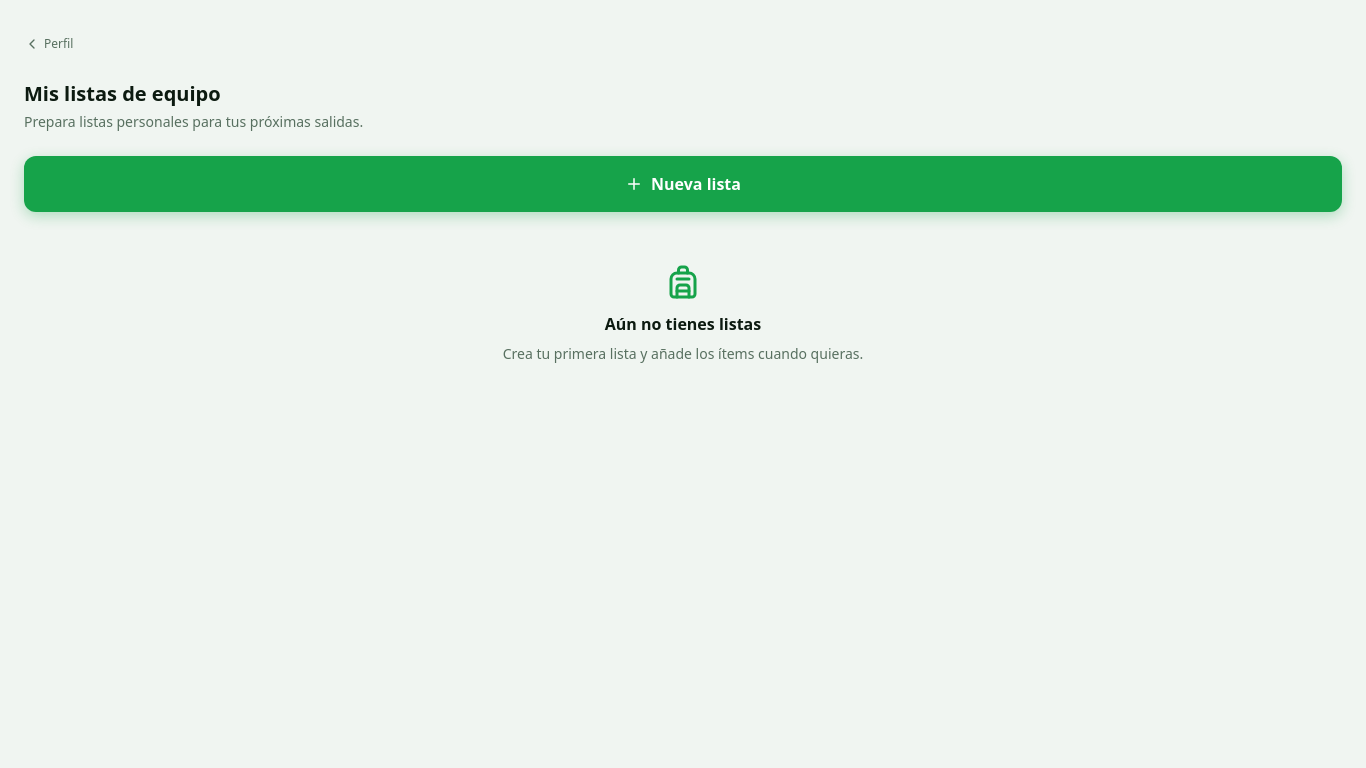
Test: Pantalla HU-30: React sin navegador › muestra el estado vacío y permite crear una lista sin ítems
Click the button "Nueva lista" at (683, 184), box left=24, top=156, right=1342, bottom=212
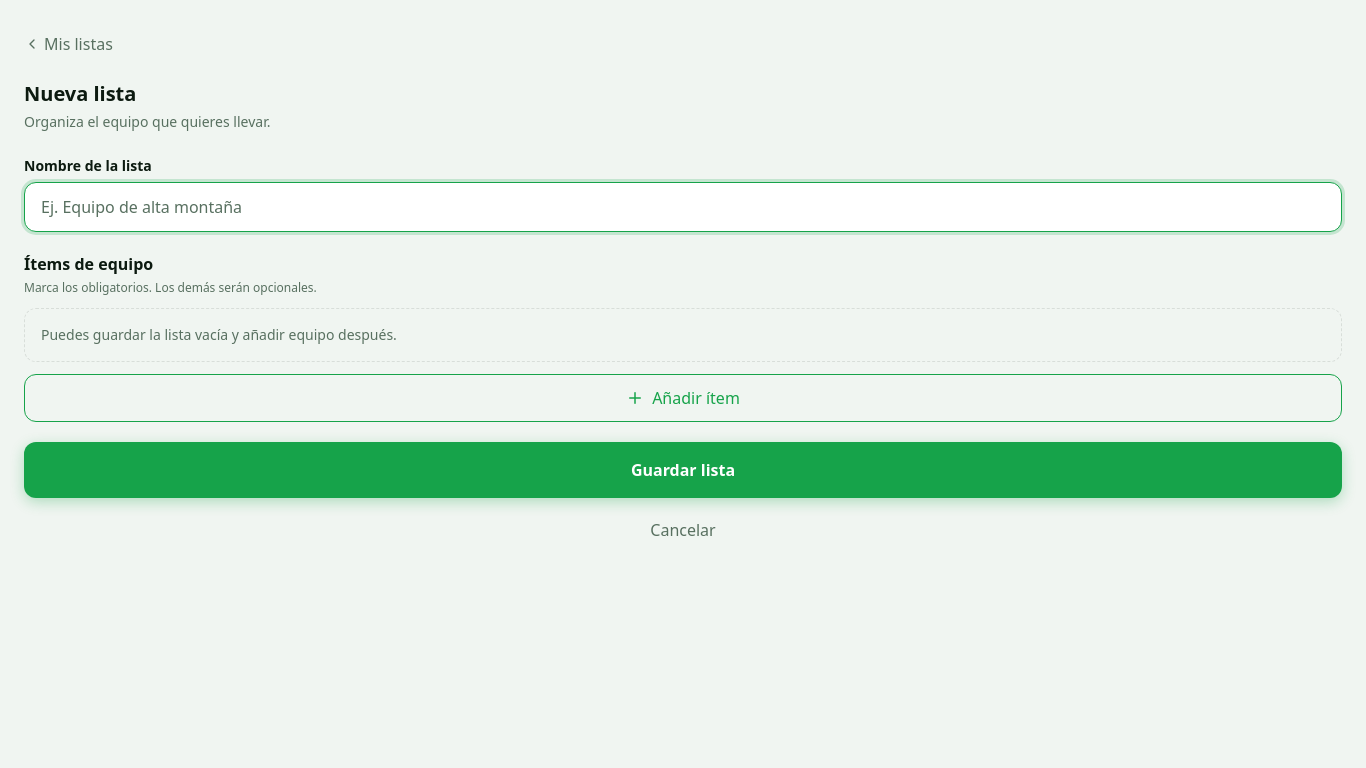
Type "  Montaña  " into the field labelled "Nombre de la lista" at (683, 207), box left=24, top=182, right=1342, bottom=232
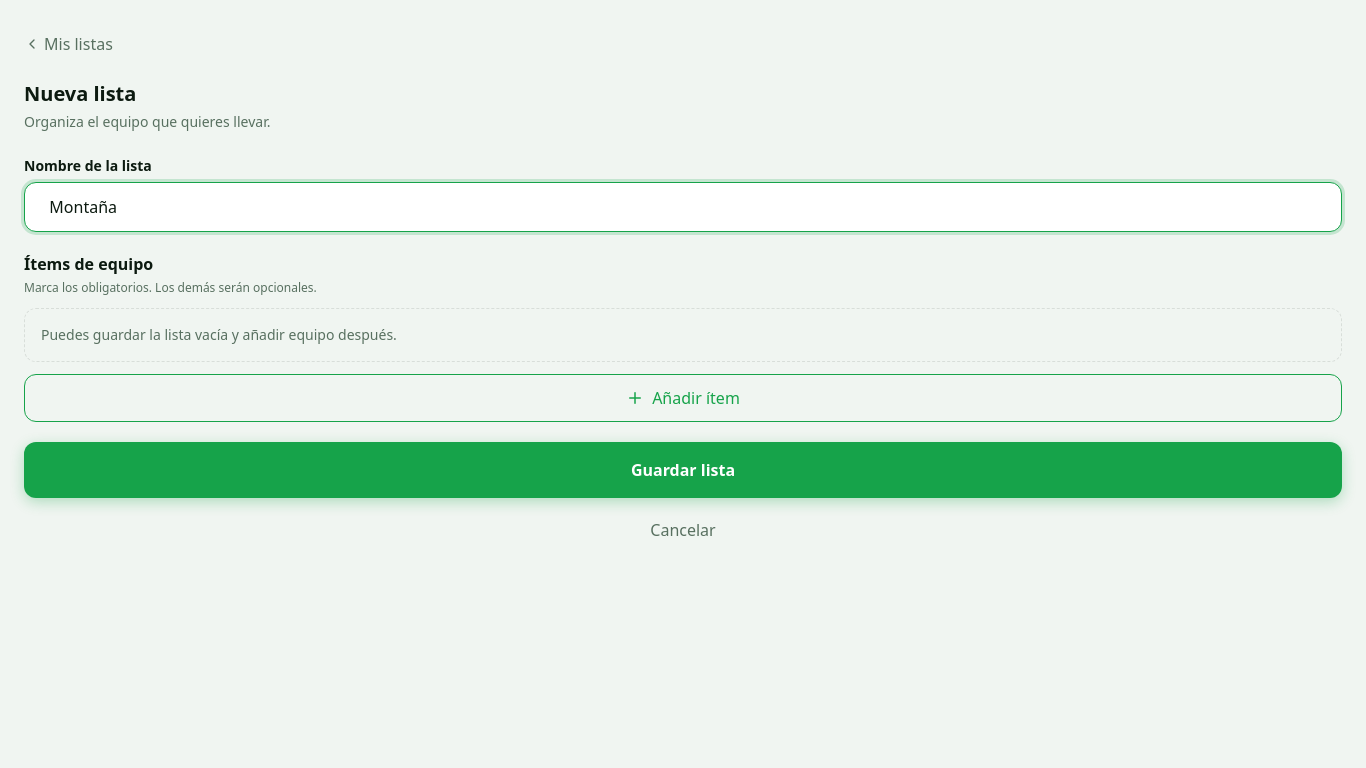
Submit the form, box left=24, top=156, right=1342, bottom=554
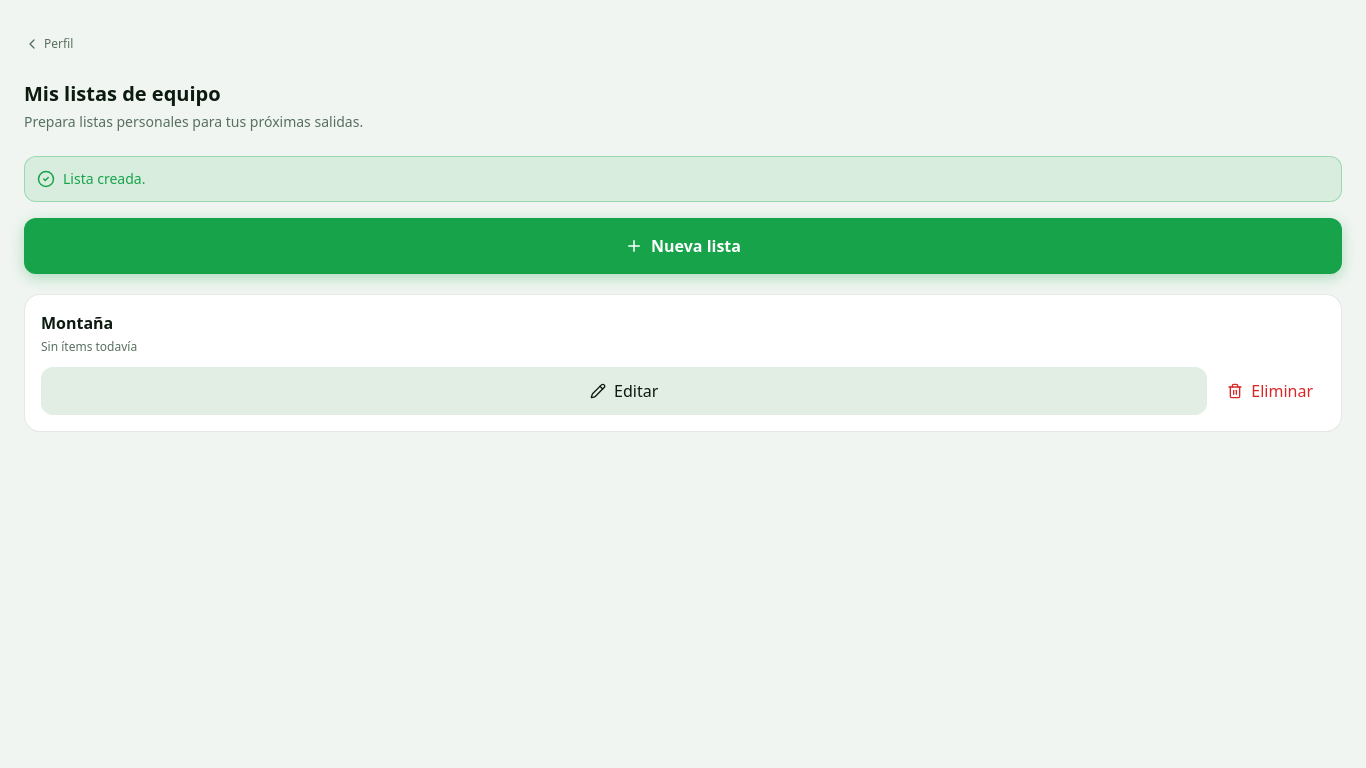
Expected: the heading "Montaña" is shown, left=41, top=312, right=113, bottom=334
